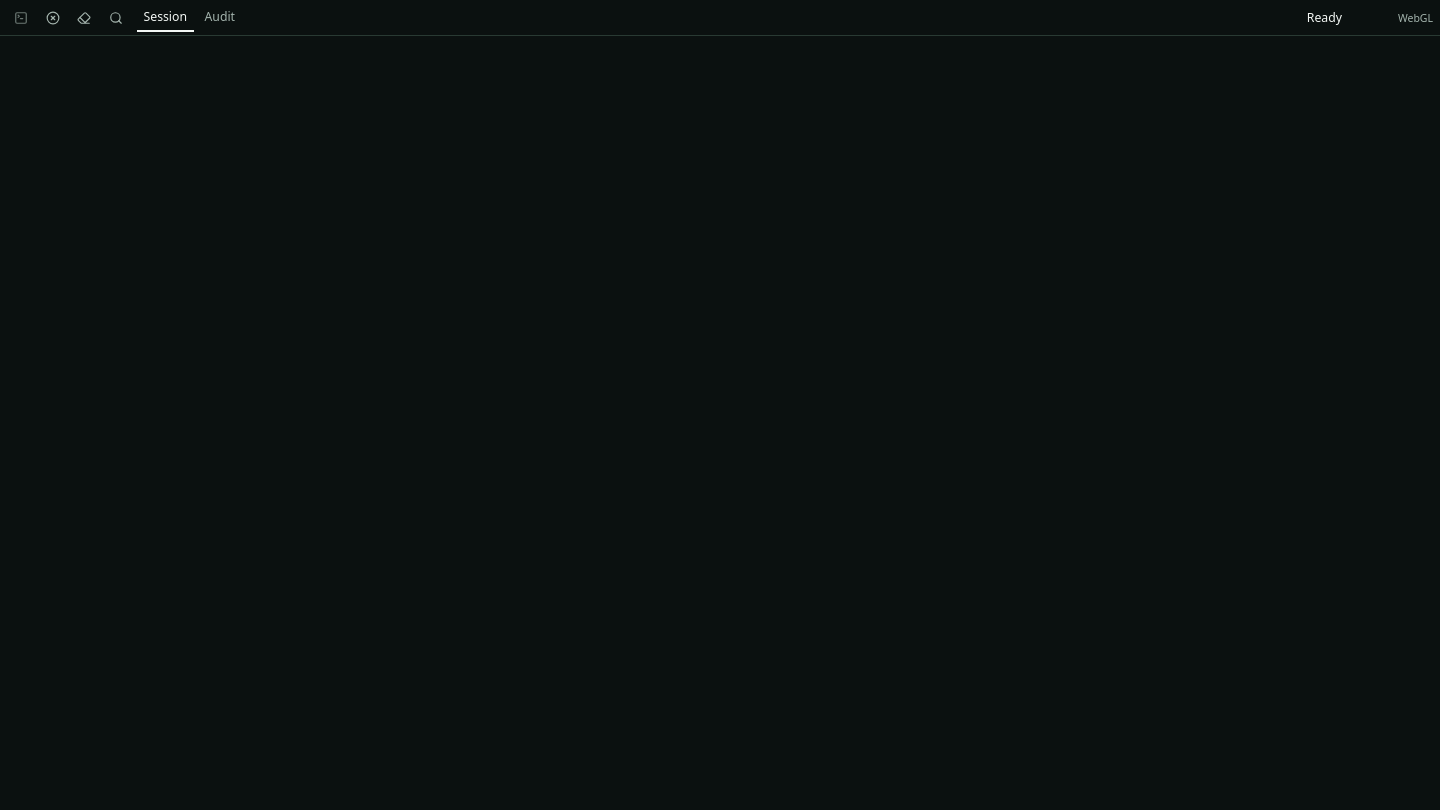
Test case: JobTerminalPanel viewport and search › resets a new terminal generation to DOM before the new adapter reports a renderer
The width and height of the screenshot is (1440, 810).
Check: the message named "Terminal renderer" reads "WebGL", box [1398,10,1433,24]
Step 1. Click the button named "Close terminal" → (52, 18), box [38,4,66,32]
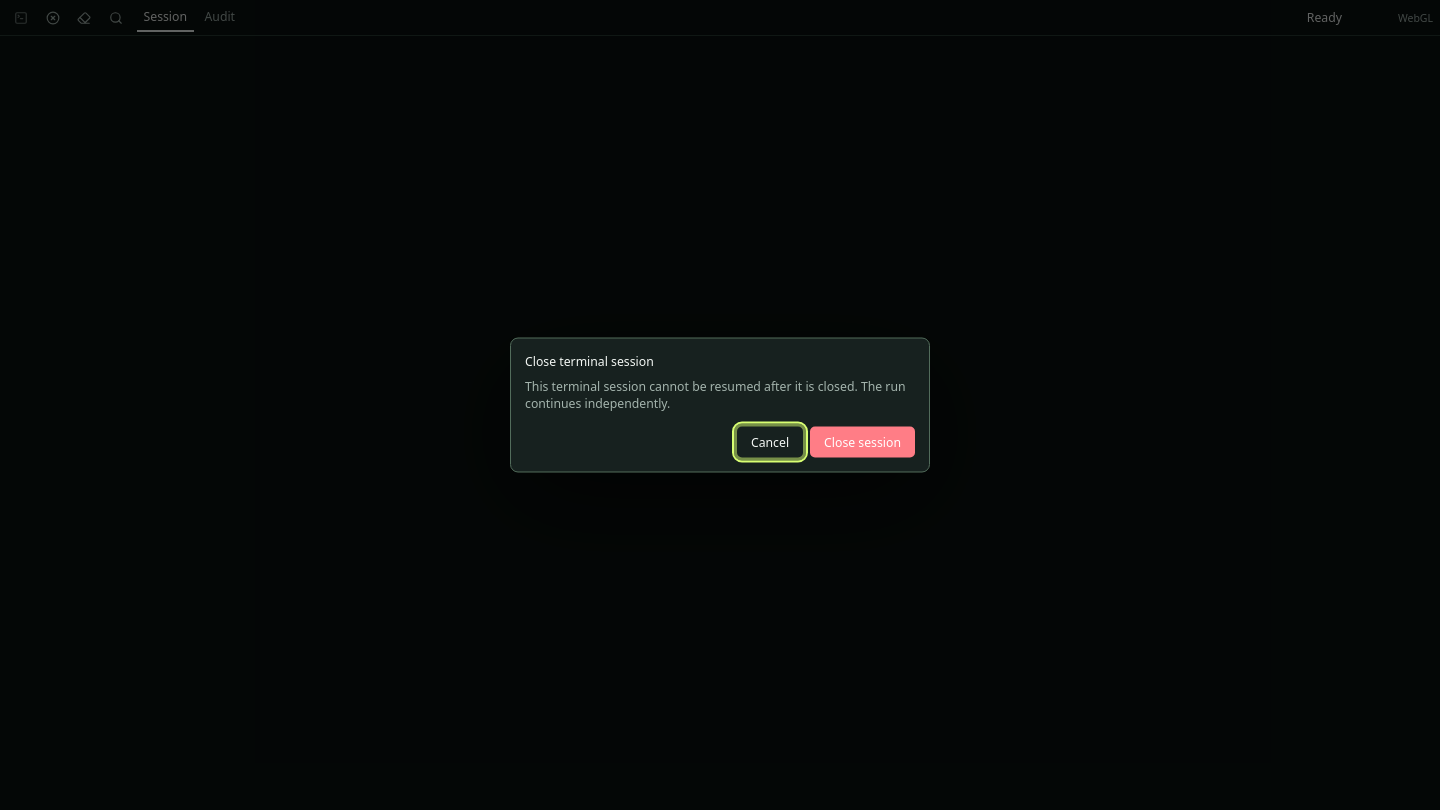
Step 2. Click the button "Close session" → (863, 442), box [810,426,915,458]
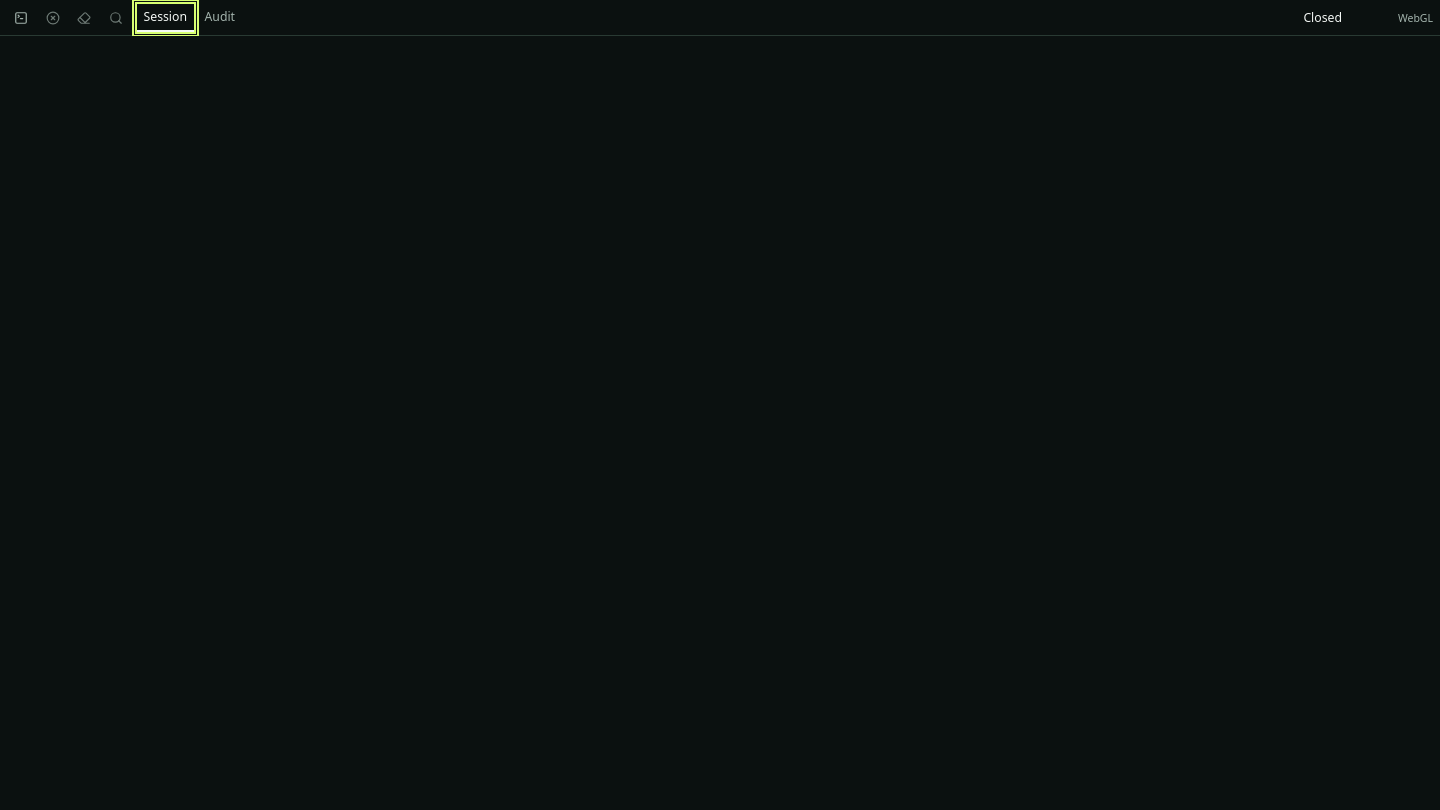
Check: the message named "Terminal renderer" reads "WebGL", box [1398,10,1433,24]
Step 3. Click the button named "Open terminal" → (21, 18), box [7,4,35,32]
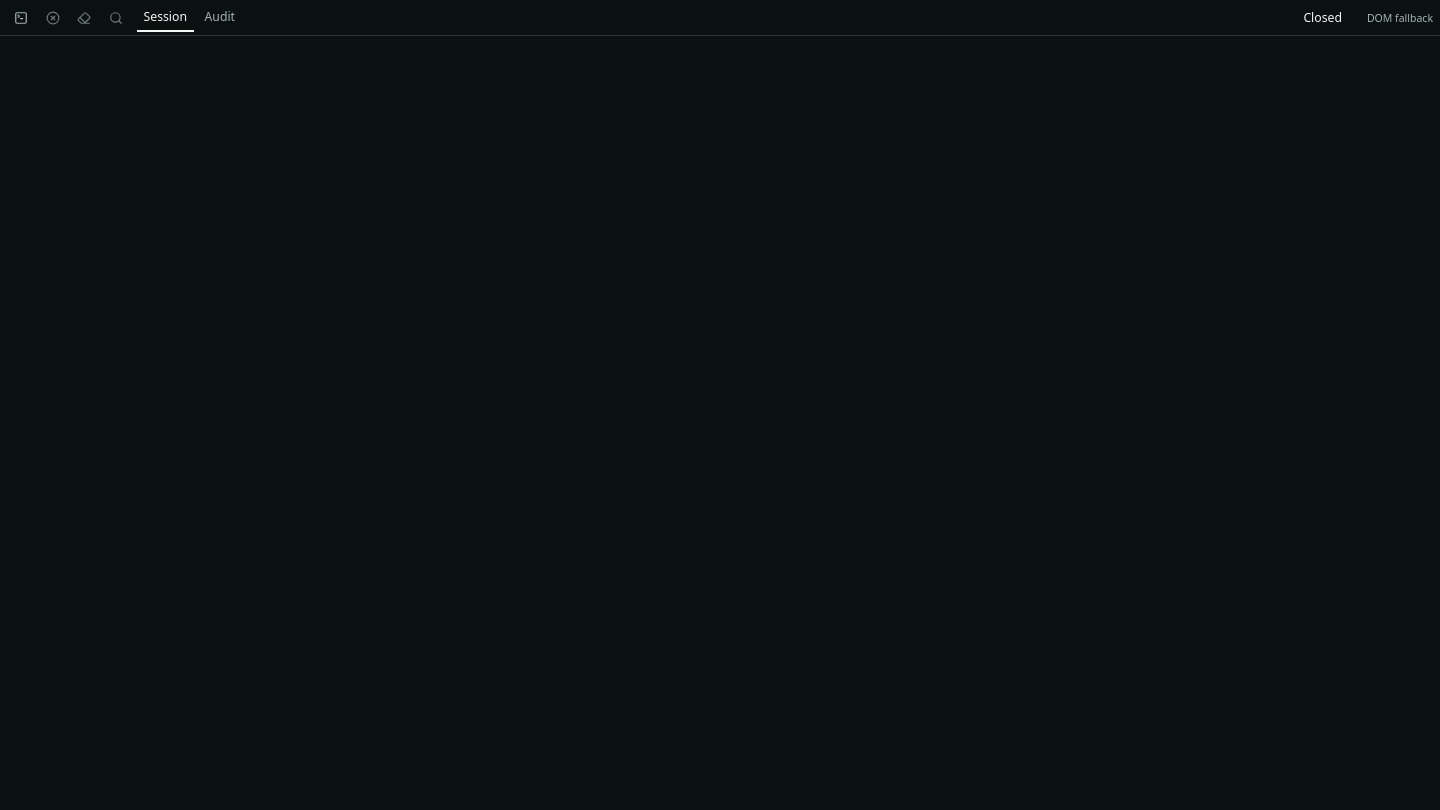
Check: the message named "Terminal renderer" reads "DOM fallback", box [1367,10,1433,24]
